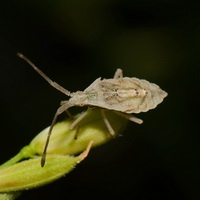insect: (17, 53, 166, 166)
